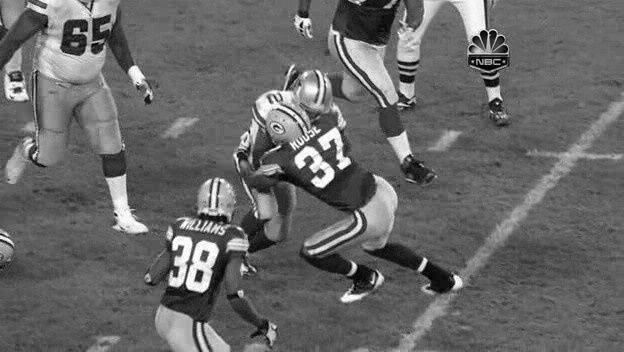person: (292, 71, 330, 120), (291, 71, 329, 120), (293, 71, 331, 120), (292, 70, 330, 119), (292, 72, 330, 121)
target_negative: (286, 158, 562, 236), (145, 136, 279, 192), (290, 325, 506, 351), (164, 169, 386, 192), (543, 167, 566, 328), (174, 275, 273, 305)
